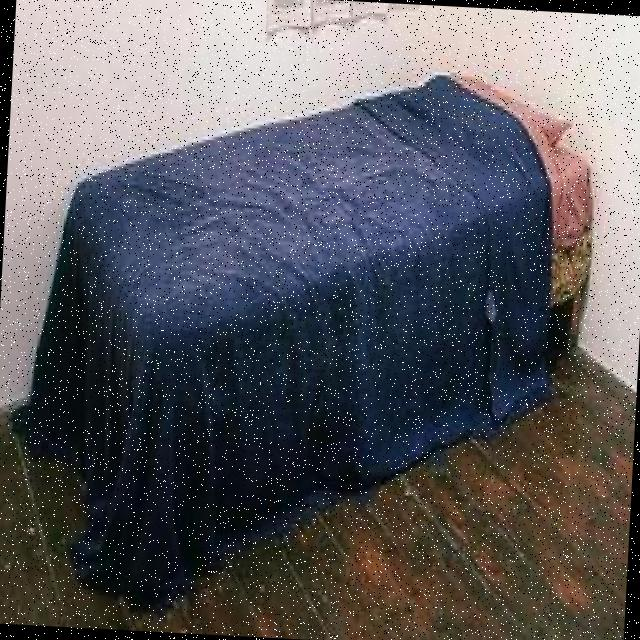Bed: (0, 31, 614, 640)
